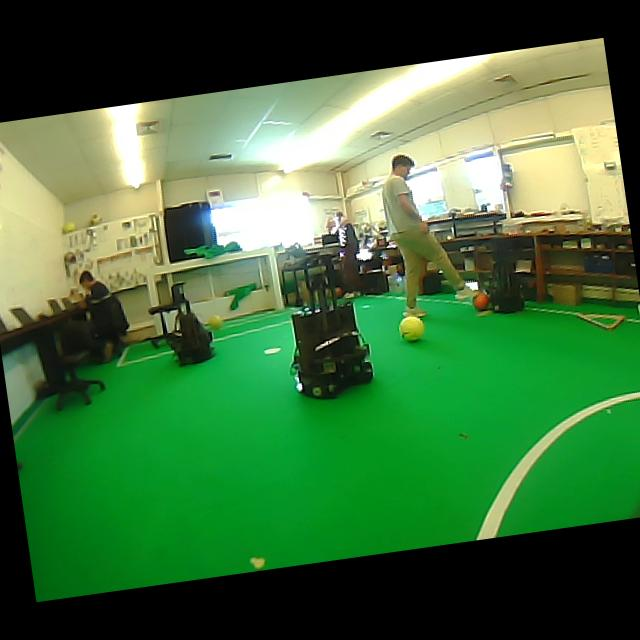ball: (399, 315, 424, 341), (473, 291, 489, 311), (208, 315, 223, 330), (62, 221, 77, 233), (91, 214, 102, 224)
goal: (268, 247, 284, 309)
robot: (292, 302, 372, 396), (170, 283, 214, 365), (490, 240, 524, 313)
